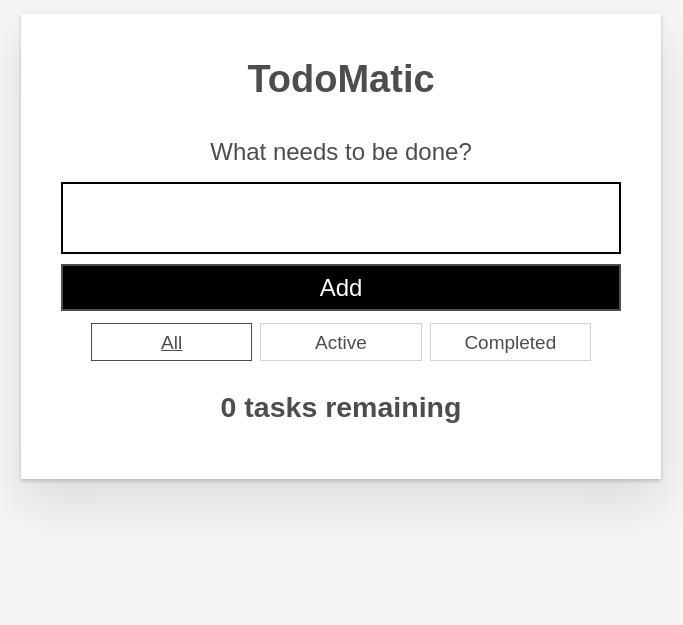
Test: Simple App.tsx tests › addTodo
Type "Hello world" into the field with test id "new-todo-input". click: (341, 218)
box: [61,182,621,254]
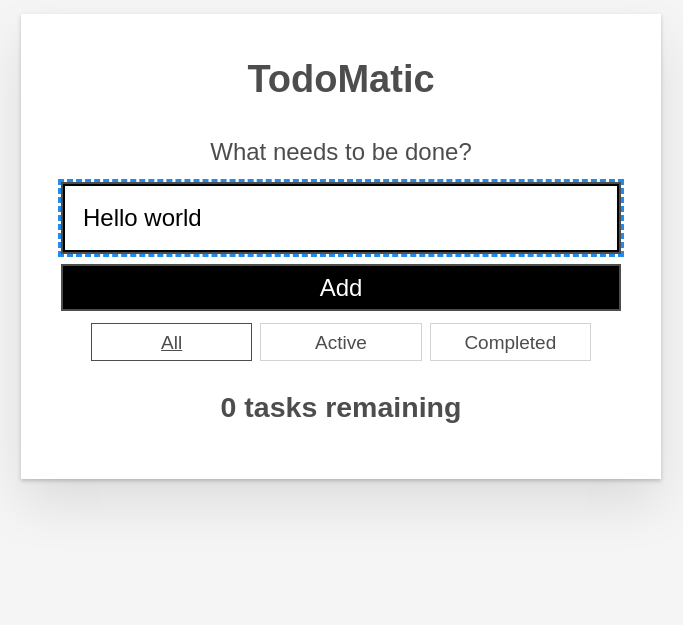
Click the button with test id "new-todo-button". click: (341, 287)
box: [61,264,621,311]
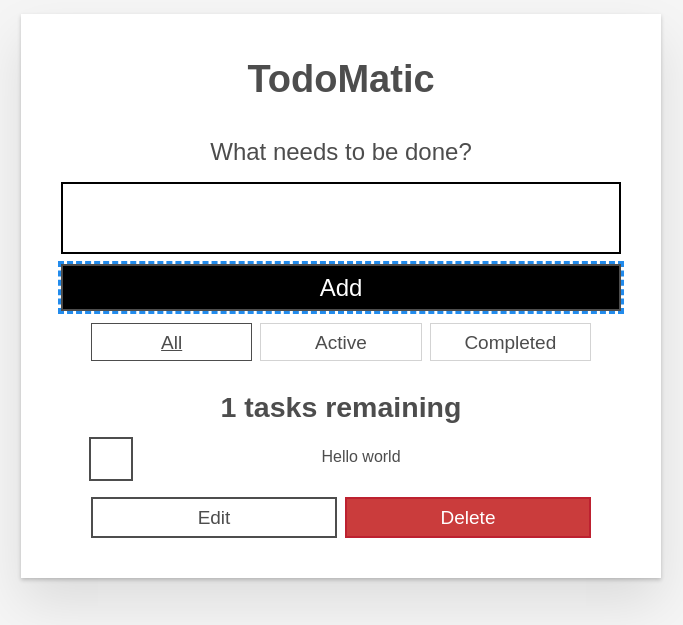
Now the checkbox with test id "label-todo-1" reads "Hello world", box [321,448,400,465]
